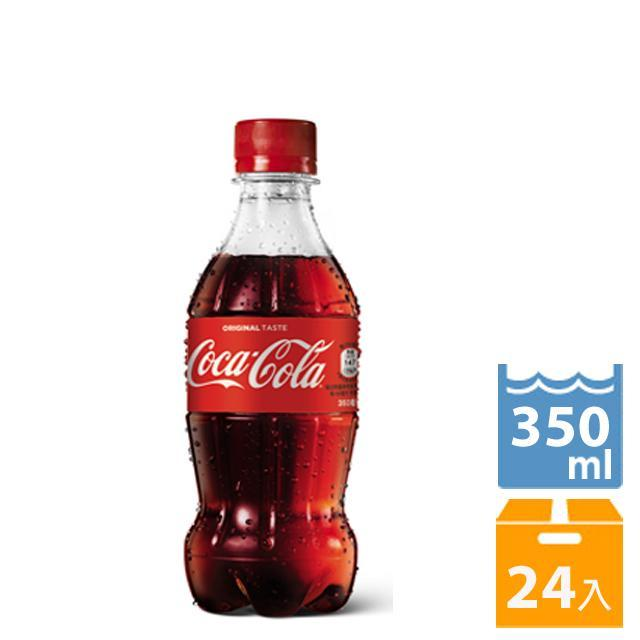bottle: (171, 110, 369, 618)
